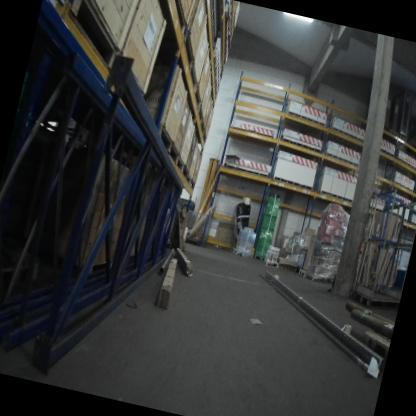pallet: (253, 253, 266, 261), (298, 268, 308, 278), (398, 135, 408, 143), (390, 130, 399, 138), (229, 247, 235, 253)
stillage: (181, 208, 215, 247), (296, 248, 308, 274)
